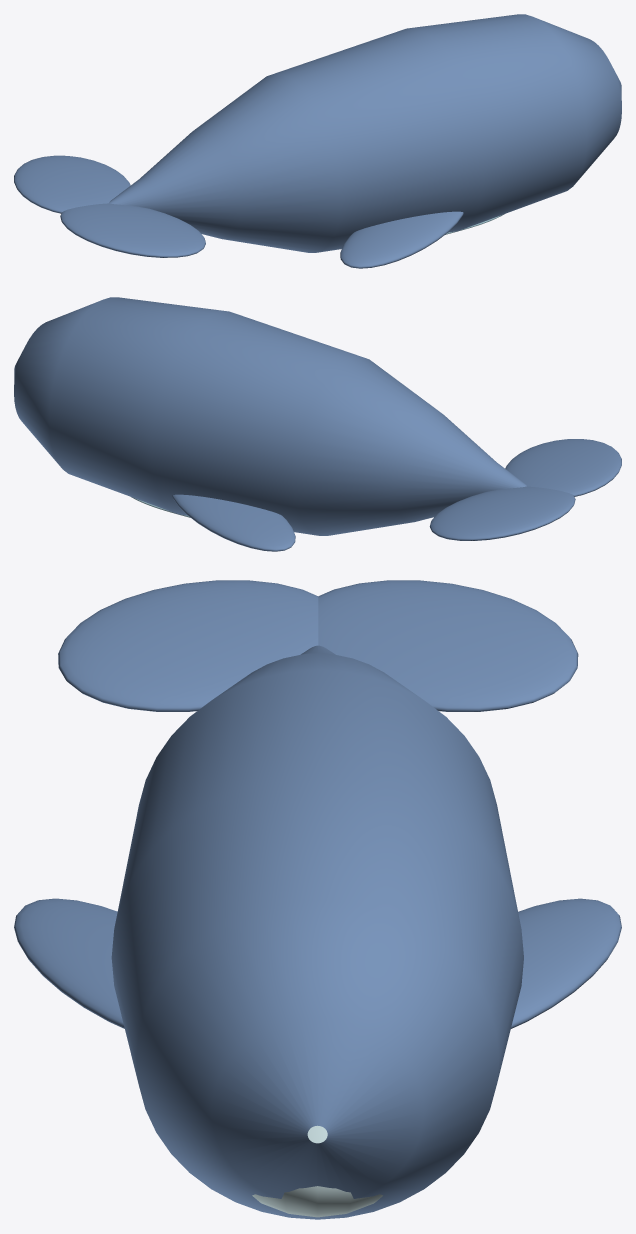
Rendered from whale.gltf.
3 views of the same model, one above another, from view 1: azimuth 30°, elevation 25°; view 2: azimuth 150°, elevation 25°; view 3: azimuth 270°, elevation 25° (orthographic). The views are drawn at different scales.
Visible parts, largest first — view 1: Group (×2); view 2: Group (×2); view 3: Group (×2).
Boxes of the visible parts, left/top/right/bottom form: Group (×2): left=14, top=14, right=621, bottom=268; Group (×2): left=14, top=297, right=621, bottom=551; Group (×2): left=14, top=580, right=621, bottom=1219.
Bounding box in the file's own units: 10.45 × 3.3 × 5.01.
